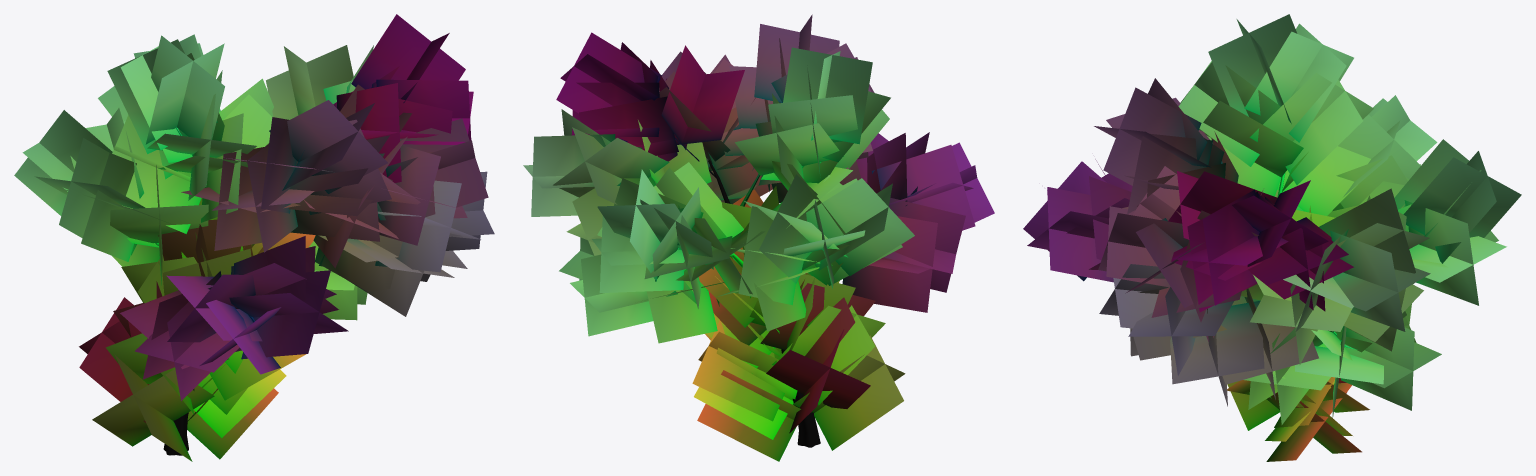
The model's file is URP_P3_Tree_11_LOD_1.fbx.
The picture shows the model from 3 angles, left to right: view 1: azimuth 30°, elevation 25°; view 2: azimuth 150°, elevation 25°; view 3: azimuth 270°, elevation 25°; orthographic projection. The views are drawn at different scales.
Parts seen in each view (by area): view 1: Tree_11_LOD_1; view 2: Tree_11_LOD_1; view 3: Tree_11_LOD_1.
Boxes of the visible parts, <box> form: Tree_11_LOD_1: <box>14,14,494,461</box>; Tree_11_LOD_1: <box>523,14,994,461</box>; Tree_11_LOD_1: <box>1023,14,1521,461</box>.
Size of the model in its own units: 516 by 533 by 565.
